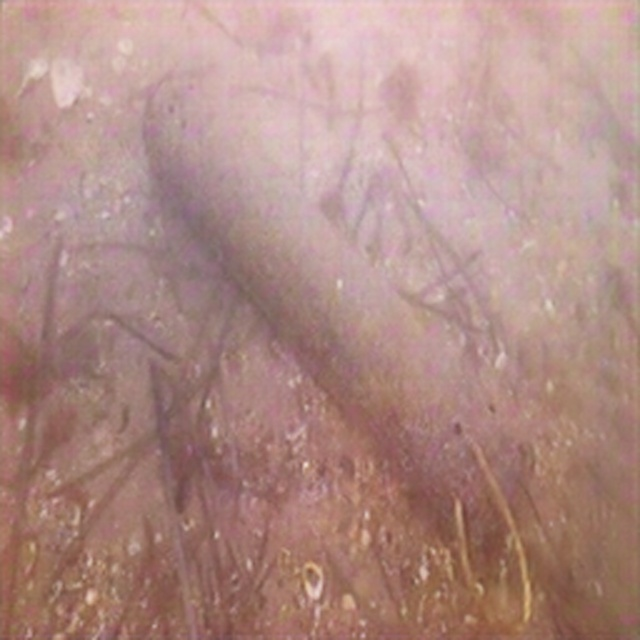mine: (143, 73, 533, 559)
